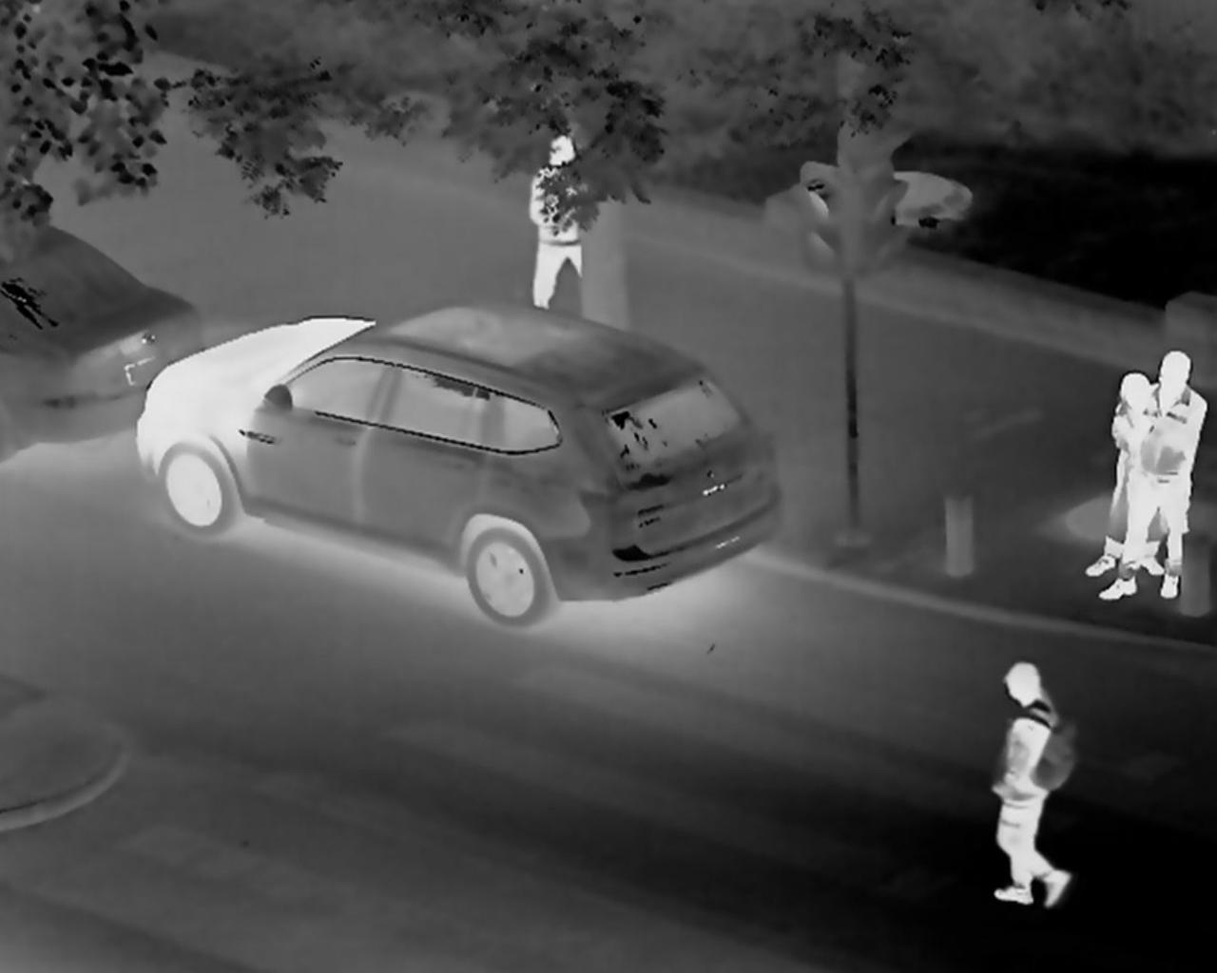person: (1102, 329, 1206, 600), (995, 656, 1089, 944), (516, 145, 592, 300)
